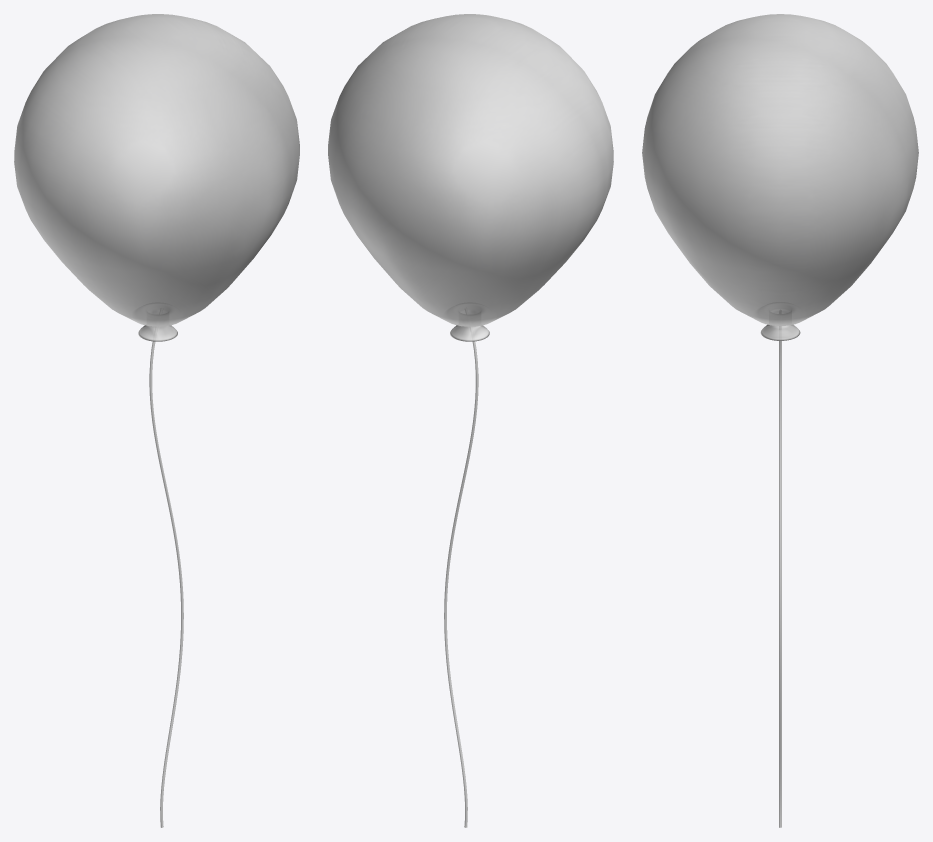
The model's file is Balloon.fbx.
3 renders of one model, left to right at view 1: azimuth 30°, elevation 25°; view 2: azimuth 150°, elevation 25°; view 3: azimuth 270°, elevation 25°, orthographic.
Visible parts, largest first — view 1: Blue Balloon; view 2: Blue Balloon; view 3: Blue Balloon.
Part boxes in pixels (box(x1,y1,x2,y2)): Blue Balloon: box(14, 14, 299, 827); Blue Balloon: box(328, 14, 613, 827); Blue Balloon: box(642, 14, 918, 827).
Bounding box in the file's own units: 0.2851 × 0.8634 × 0.2714.
